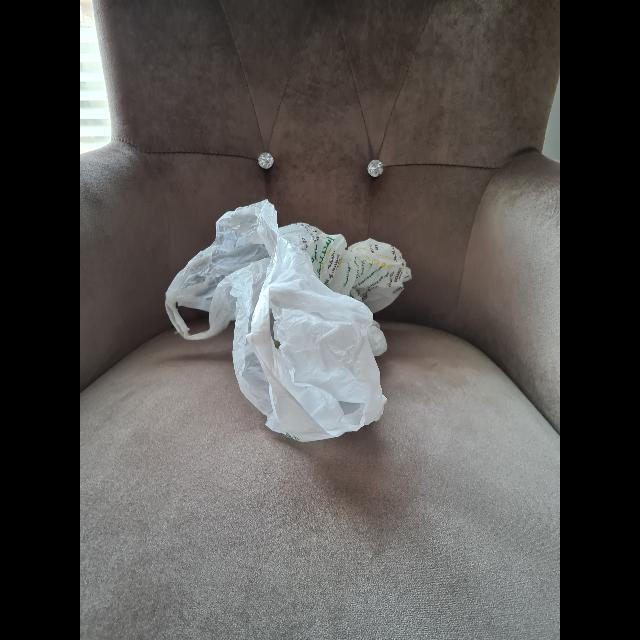plastic_bag: (165, 198, 411, 438)
